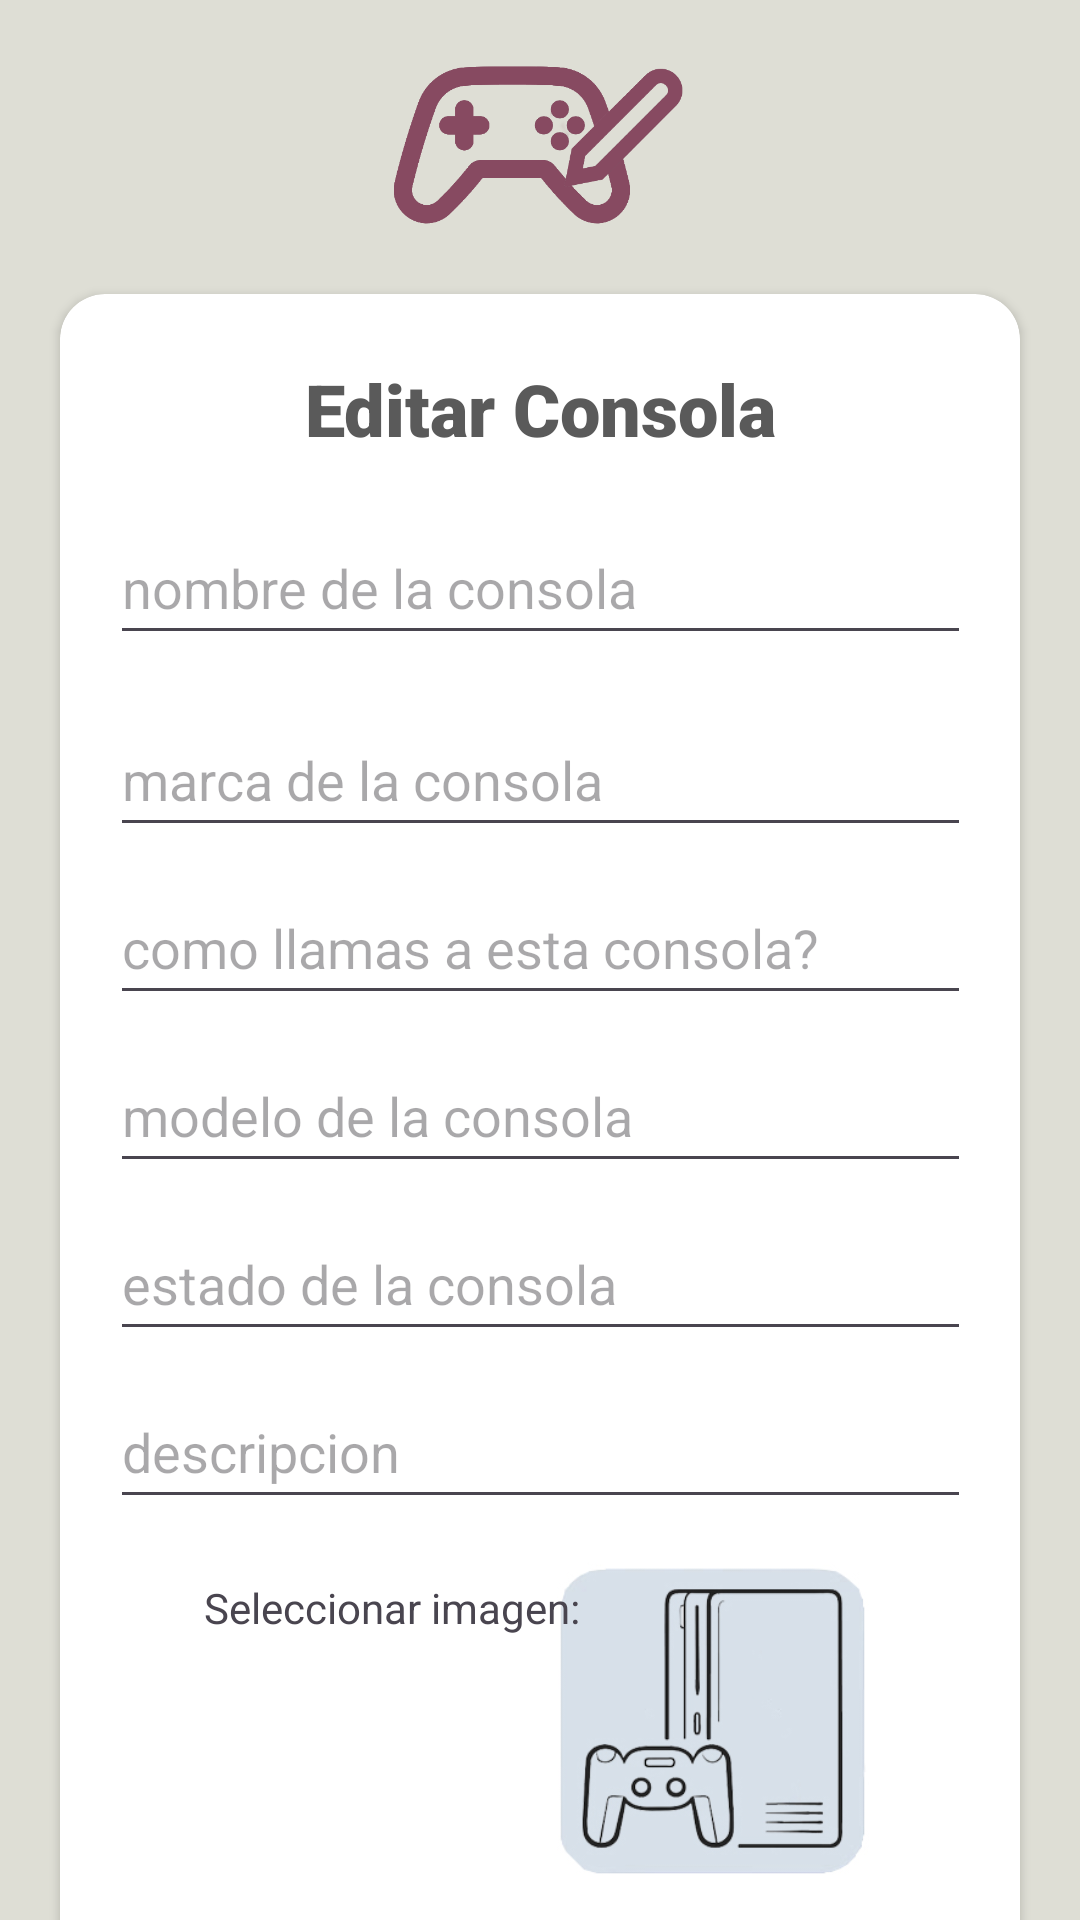

Screen size 1080 × 1920. Icon name, then its center in pixels as (x,y):
edit console: (538,145)
upload console picture: (707,1721)
